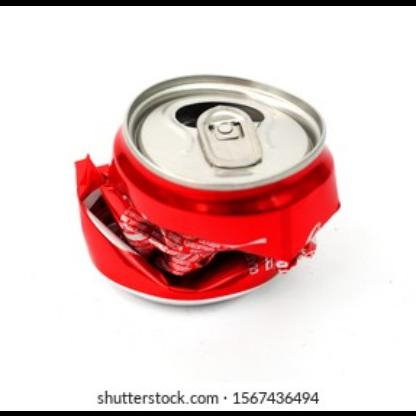Dent_Can: (69, 159, 313, 303)
Lid_Open: (180, 93, 298, 165)
Tin_Can: (55, 70, 353, 320)
